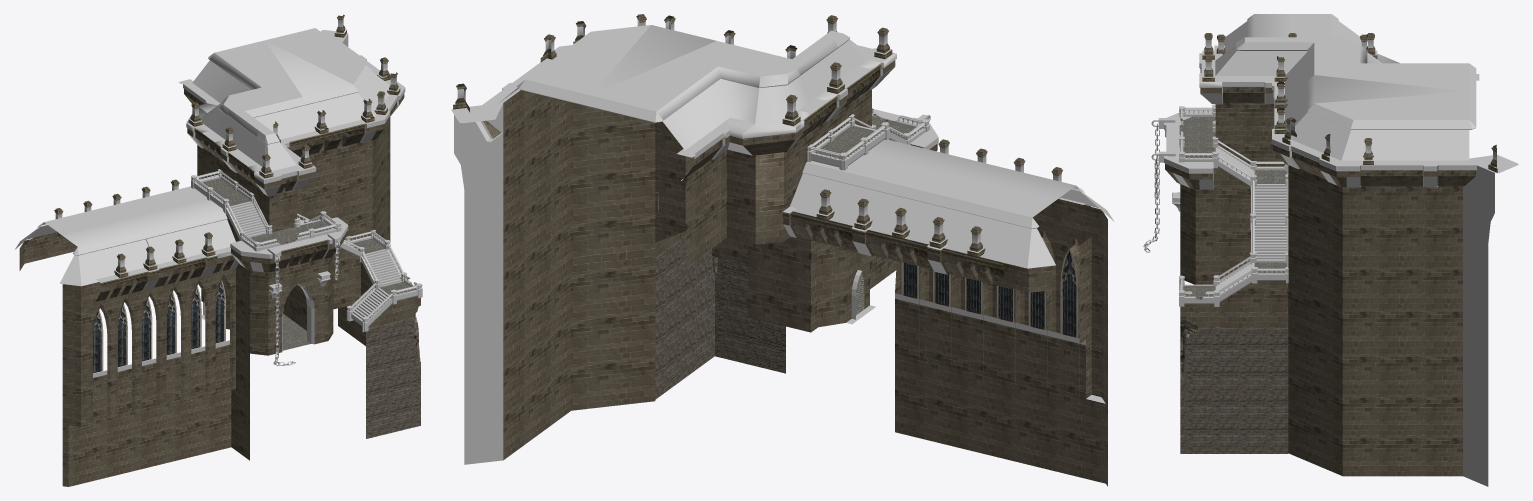
Rendered from SM_Barracks.FBX.
The picture shows the model from 3 angles, left to right: view 1: azimuth 30°, elevation 25°; view 2: azimuth 150°, elevation 25°; view 3: azimuth 270°, elevation 25°; orthographic projection. The views are drawn at different scales.
Parts seen in each view (by area): view 1: SM_Barracks; view 2: SM_Barracks; view 3: SM_Barracks.
Part boxes in pixels (left/top/right/bottom): SM_Barracks: left=15, top=14, right=422, bottom=486; SM_Barracks: left=451, top=14, right=1114, bottom=486; SM_Barracks: left=1143, top=14, right=1518, bottom=486.
Size of what is drawn, in the model's own units: 5279 by 3738 by 3792.
